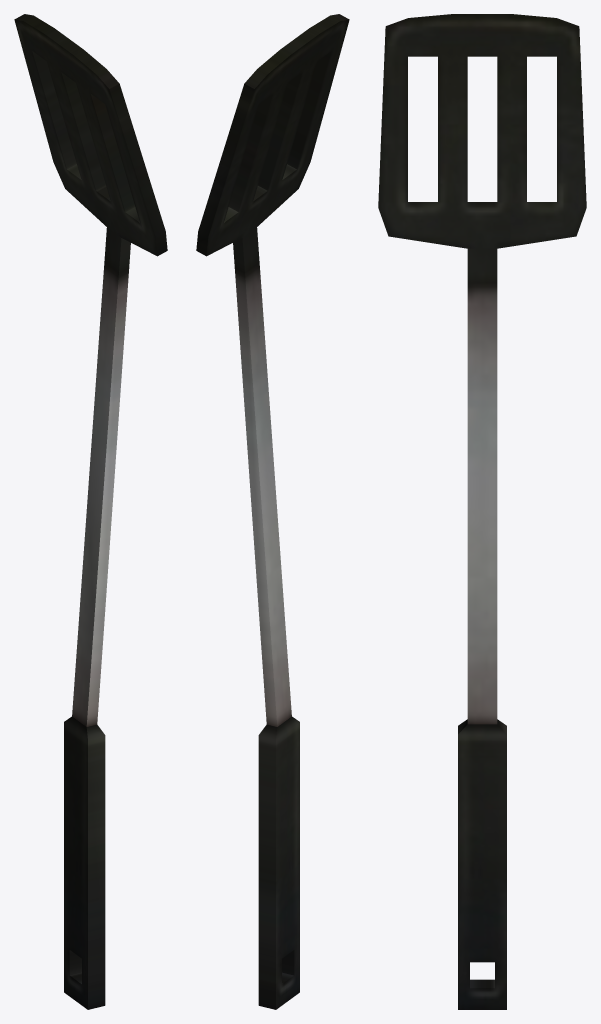
File: chefLance.glb
3 renders of one model, left to right at view 1: azimuth 30°, elevation 25°; view 2: azimuth 150°, elevation 25°; view 3: azimuth 270°, elevation 25°, orthographic.
Visible parts, largest first — view 1: chefLance; view 2: chefLance; view 3: chefLance.
Boxes of the visible parts, x1,y1,x2,y2 form: chefLance: (14, 14, 167, 1009); chefLance: (196, 14, 349, 1009); chefLance: (378, 14, 586, 1009).
Size of the model in its own units: 0.1124 by 1.58 by 0.3041.
1 material, 1 textured.
